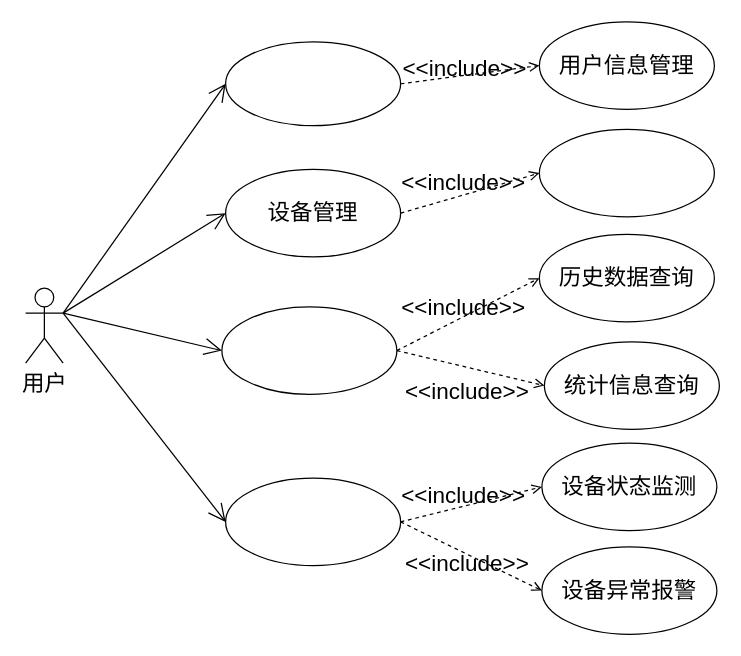
The diagram is 741 pixels wide and 656 high, and some of its shapes have lost their labels. Here are the shapes that lost their labels. From the top down, the centre of each, then its label:
point (312, 83): 用户管理
point (626, 172): 设备信息管理
point (309, 350): 数据查询
point (312, 521): 设备监测与报警
